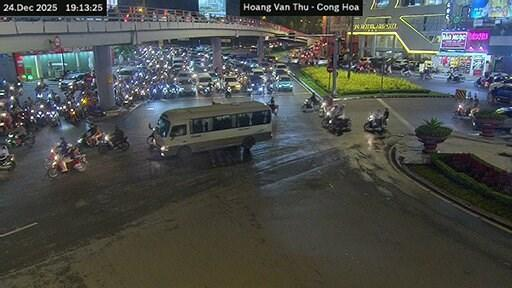motorbike: (98, 134, 128, 153), (362, 112, 386, 133), (64, 148, 85, 169), (327, 117, 351, 135), (451, 103, 477, 118), (76, 133, 99, 148), (7, 133, 34, 145), (42, 145, 57, 166), (47, 154, 60, 176), (45, 109, 60, 126), (0, 153, 15, 169), (300, 99, 319, 111), (317, 100, 330, 116), (146, 122, 153, 144), (35, 81, 47, 93), (447, 73, 464, 81), (266, 102, 278, 112), (198, 85, 211, 94), (473, 76, 486, 85), (400, 67, 409, 76), (224, 85, 230, 97), (99, 131, 103, 136)
